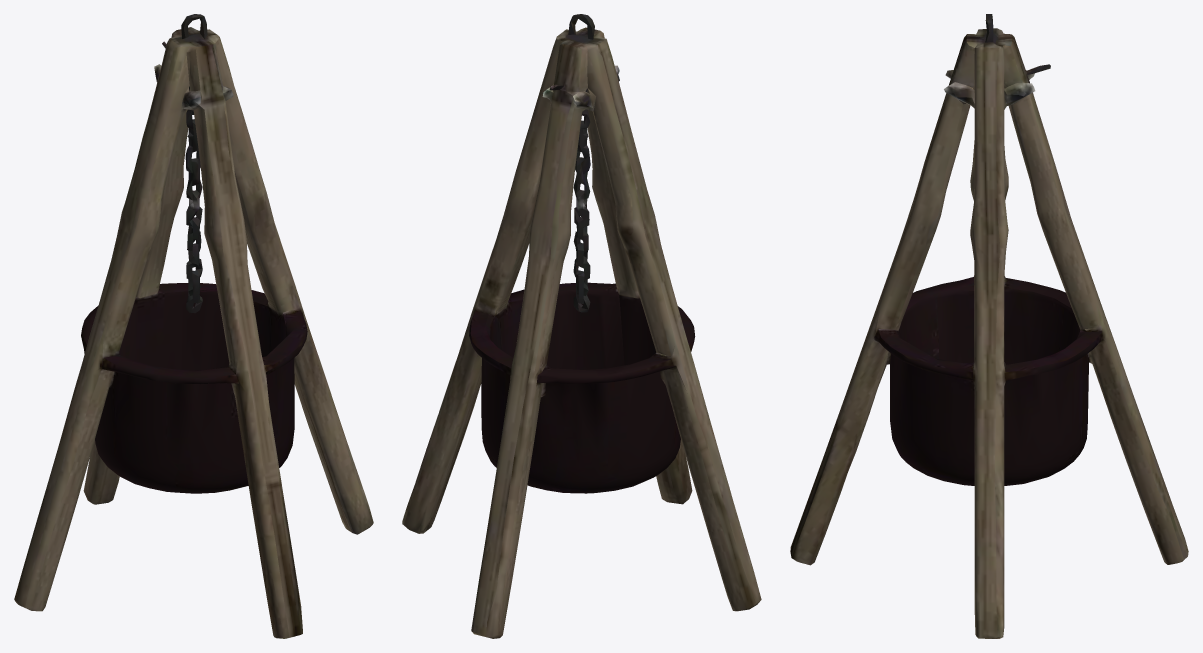
Rendered from tripod.glb.
3 renders of one model, left to right at view 1: azimuth 30°, elevation 25°; view 2: azimuth 150°, elevation 25°; view 3: azimuth 270°, elevation 25°, orthographic.
Visible parts, largest first — view 1: tripod; view 2: tripod; view 3: tripod.
Boxes of the visible parts, box(x1,y1,x2,y2) form: tripod: box(14, 14, 373, 638); tripod: box(402, 14, 761, 638); tripod: box(790, 14, 1188, 638).
Bounding box in the file's own units: 0.893 × 1.35 × 0.8917.
Materials: 1 (1 with a texture image).
